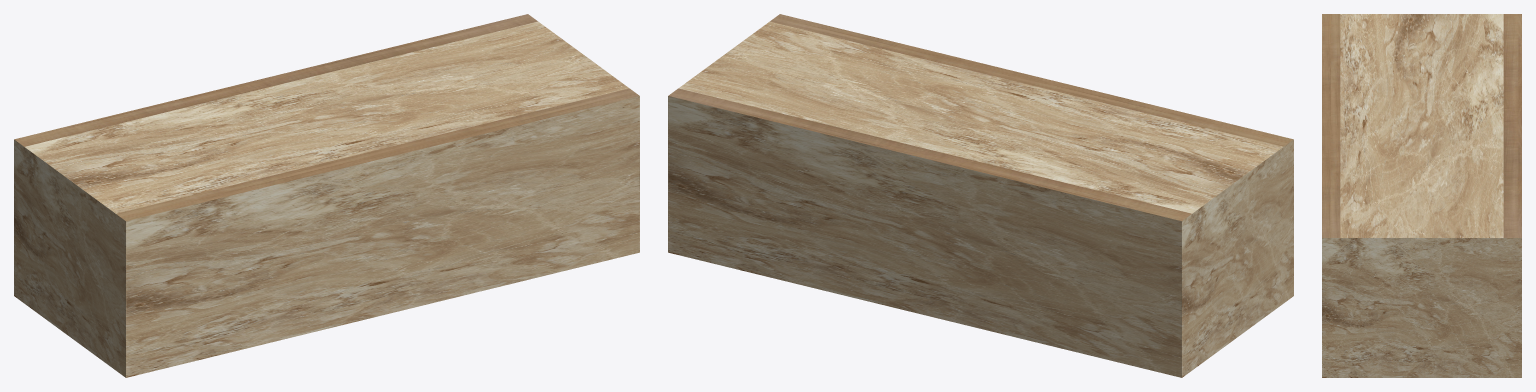
The model's file is bar2.FBX.
The picture shows the model from 3 angles, left to right: view 1: azimuth 30°, elevation 25°; view 2: azimuth 150°, elevation 25°; view 3: azimuth 270°, elevation 25°; orthographic projection. The views are drawn at different scales.
Visible parts, largest first — view 1: Box001; view 2: Box001; view 3: Box001.
Part boxes in pixels (left/top/right/bottom): Box001: left=14, top=14, right=639, bottom=377; Box001: left=668, top=14, right=1293, bottom=377; Box001: left=1322, top=14, right=1521, bottom=377.
Size of the model in its own units: 92.73 by 27.02 by 34.96.
Materials: 2 (2 with a texture image).
